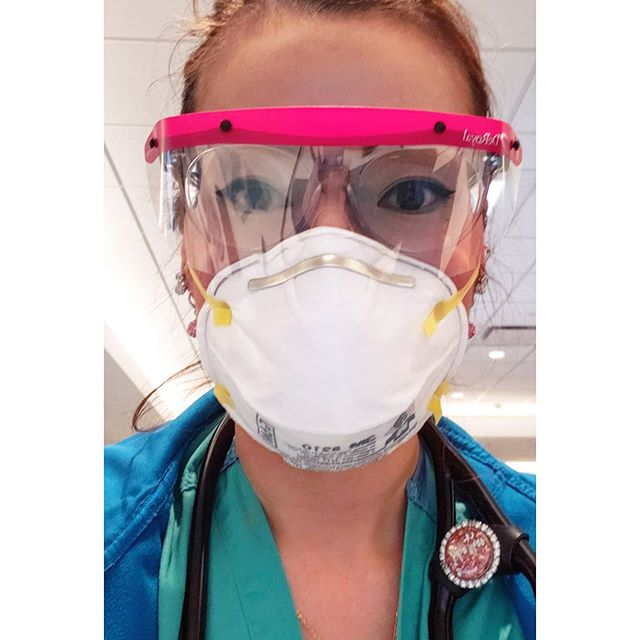n95: (182, 228, 472, 479)
